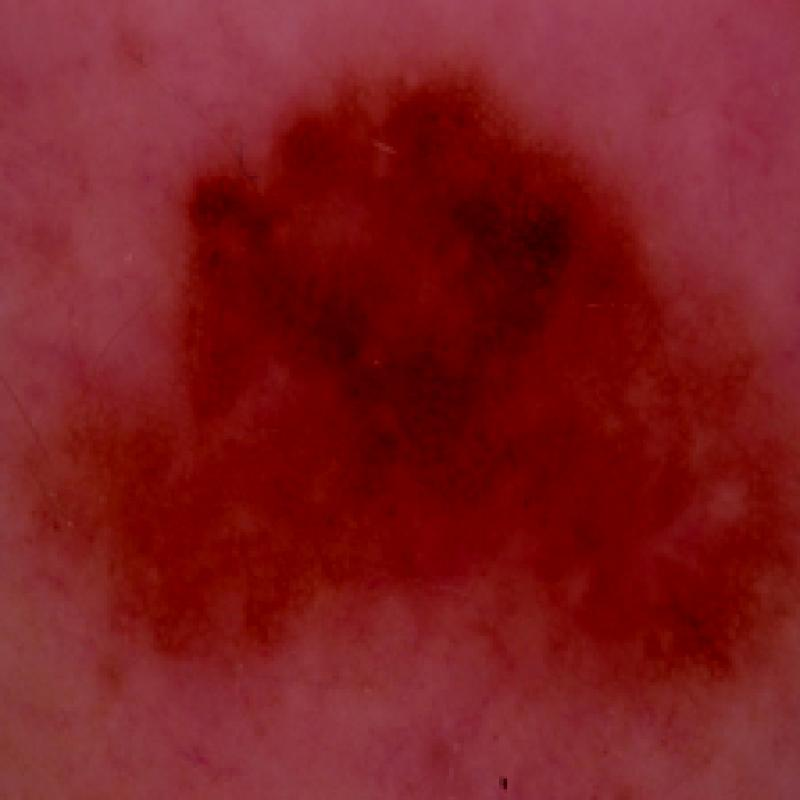benign: (40, 75, 790, 693)
